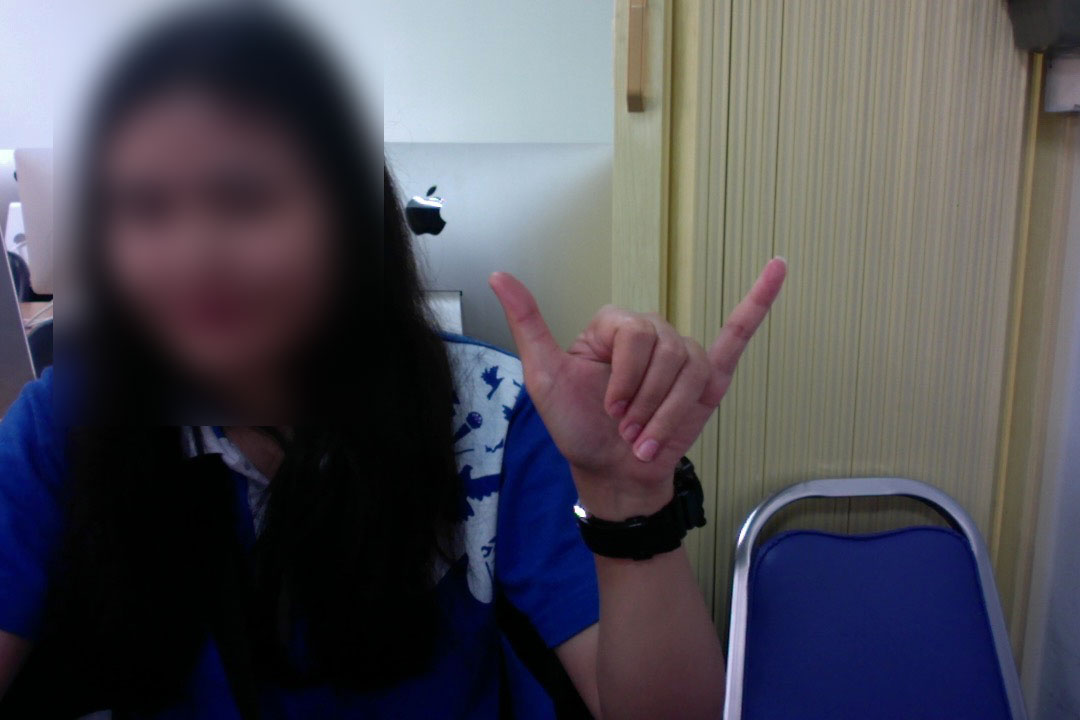yor: (479, 248, 801, 516)
